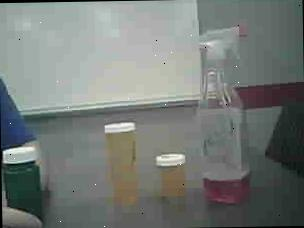Bottle A: (100, 119, 146, 214)
Bottle B: (150, 143, 190, 208)
Bottle C: (0, 138, 56, 228)
hazard: (188, 21, 272, 214)
